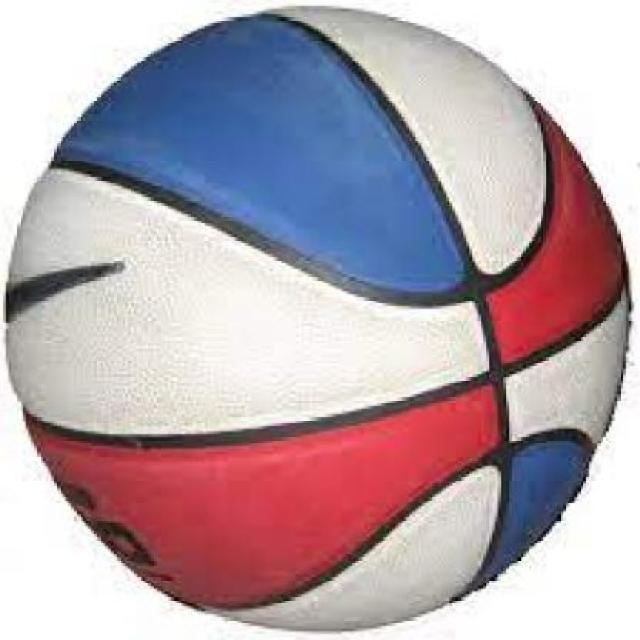basketball: (9, 7, 628, 629)
